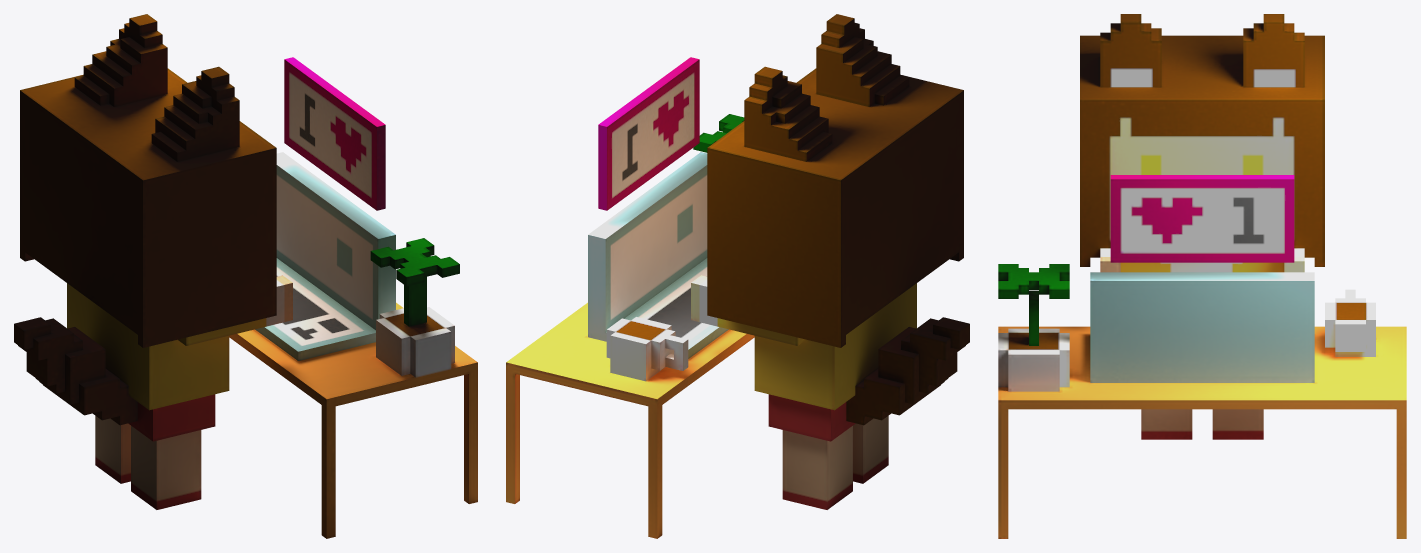
The model's file is zz2-baked.glb.
The picture shows the model from 3 angles, left to right: view 1: azimuth 30°, elevation 25°; view 2: azimuth 150°, elevation 25°; view 3: azimuth 270°, elevation 25°; orthographic projection.
Parts seen in each view (by area): view 1: UVMap4bake; view 2: UVMap4bake; view 3: UVMap4bake.
Boxes of the visible parts, box(x1,y1,x2,y2) form: UVMap4bake: box(14, 14, 477, 538); UVMap4bake: box(506, 14, 969, 538); UVMap4bake: box(998, 14, 1406, 538).
Bounding box in the file's own units: 4 × 4.6 × 4.
Materials: 1 (1 with a texture image).
